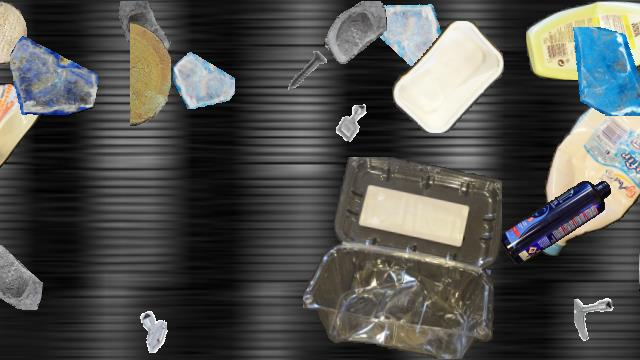glass: (10, 29, 98, 117), (564, 27, 640, 115), (415, 240, 491, 316), (371, 1, 443, 73), (115, 1, 179, 65), (173, 47, 235, 109), (324, 1, 386, 63), (0, 235, 43, 309)
metal: (574, 296, 634, 356), (281, 45, 335, 99), (326, 97, 378, 149), (134, 308, 178, 352)
plastic: (303, 157, 501, 359), (540, 86, 640, 260), (391, 21, 505, 133), (500, 181, 610, 263), (526, 1, 640, 79), (0, 83, 42, 169)
wood: (130, 22, 170, 126), (0, 1, 26, 65), (639, 218, 640, 340)
